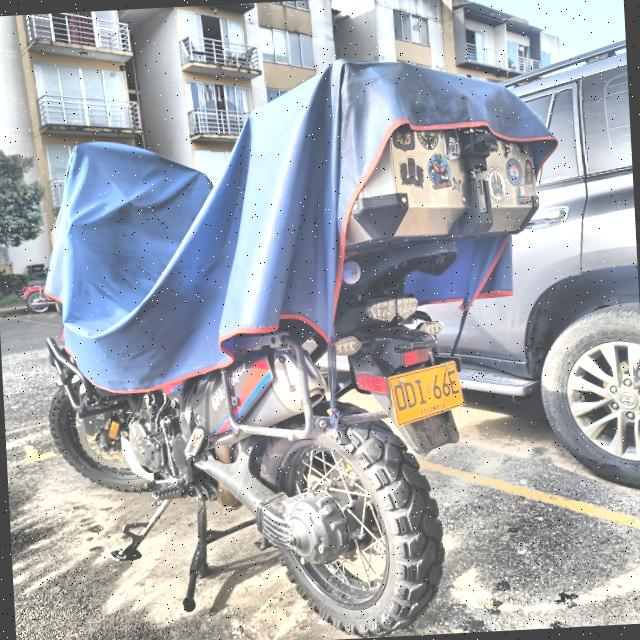6: (428, 373, 444, 402), (439, 371, 452, 398)
D: (402, 379, 419, 410)
E: (447, 369, 461, 396)
I: (413, 377, 429, 406)
O: (392, 383, 408, 413)
